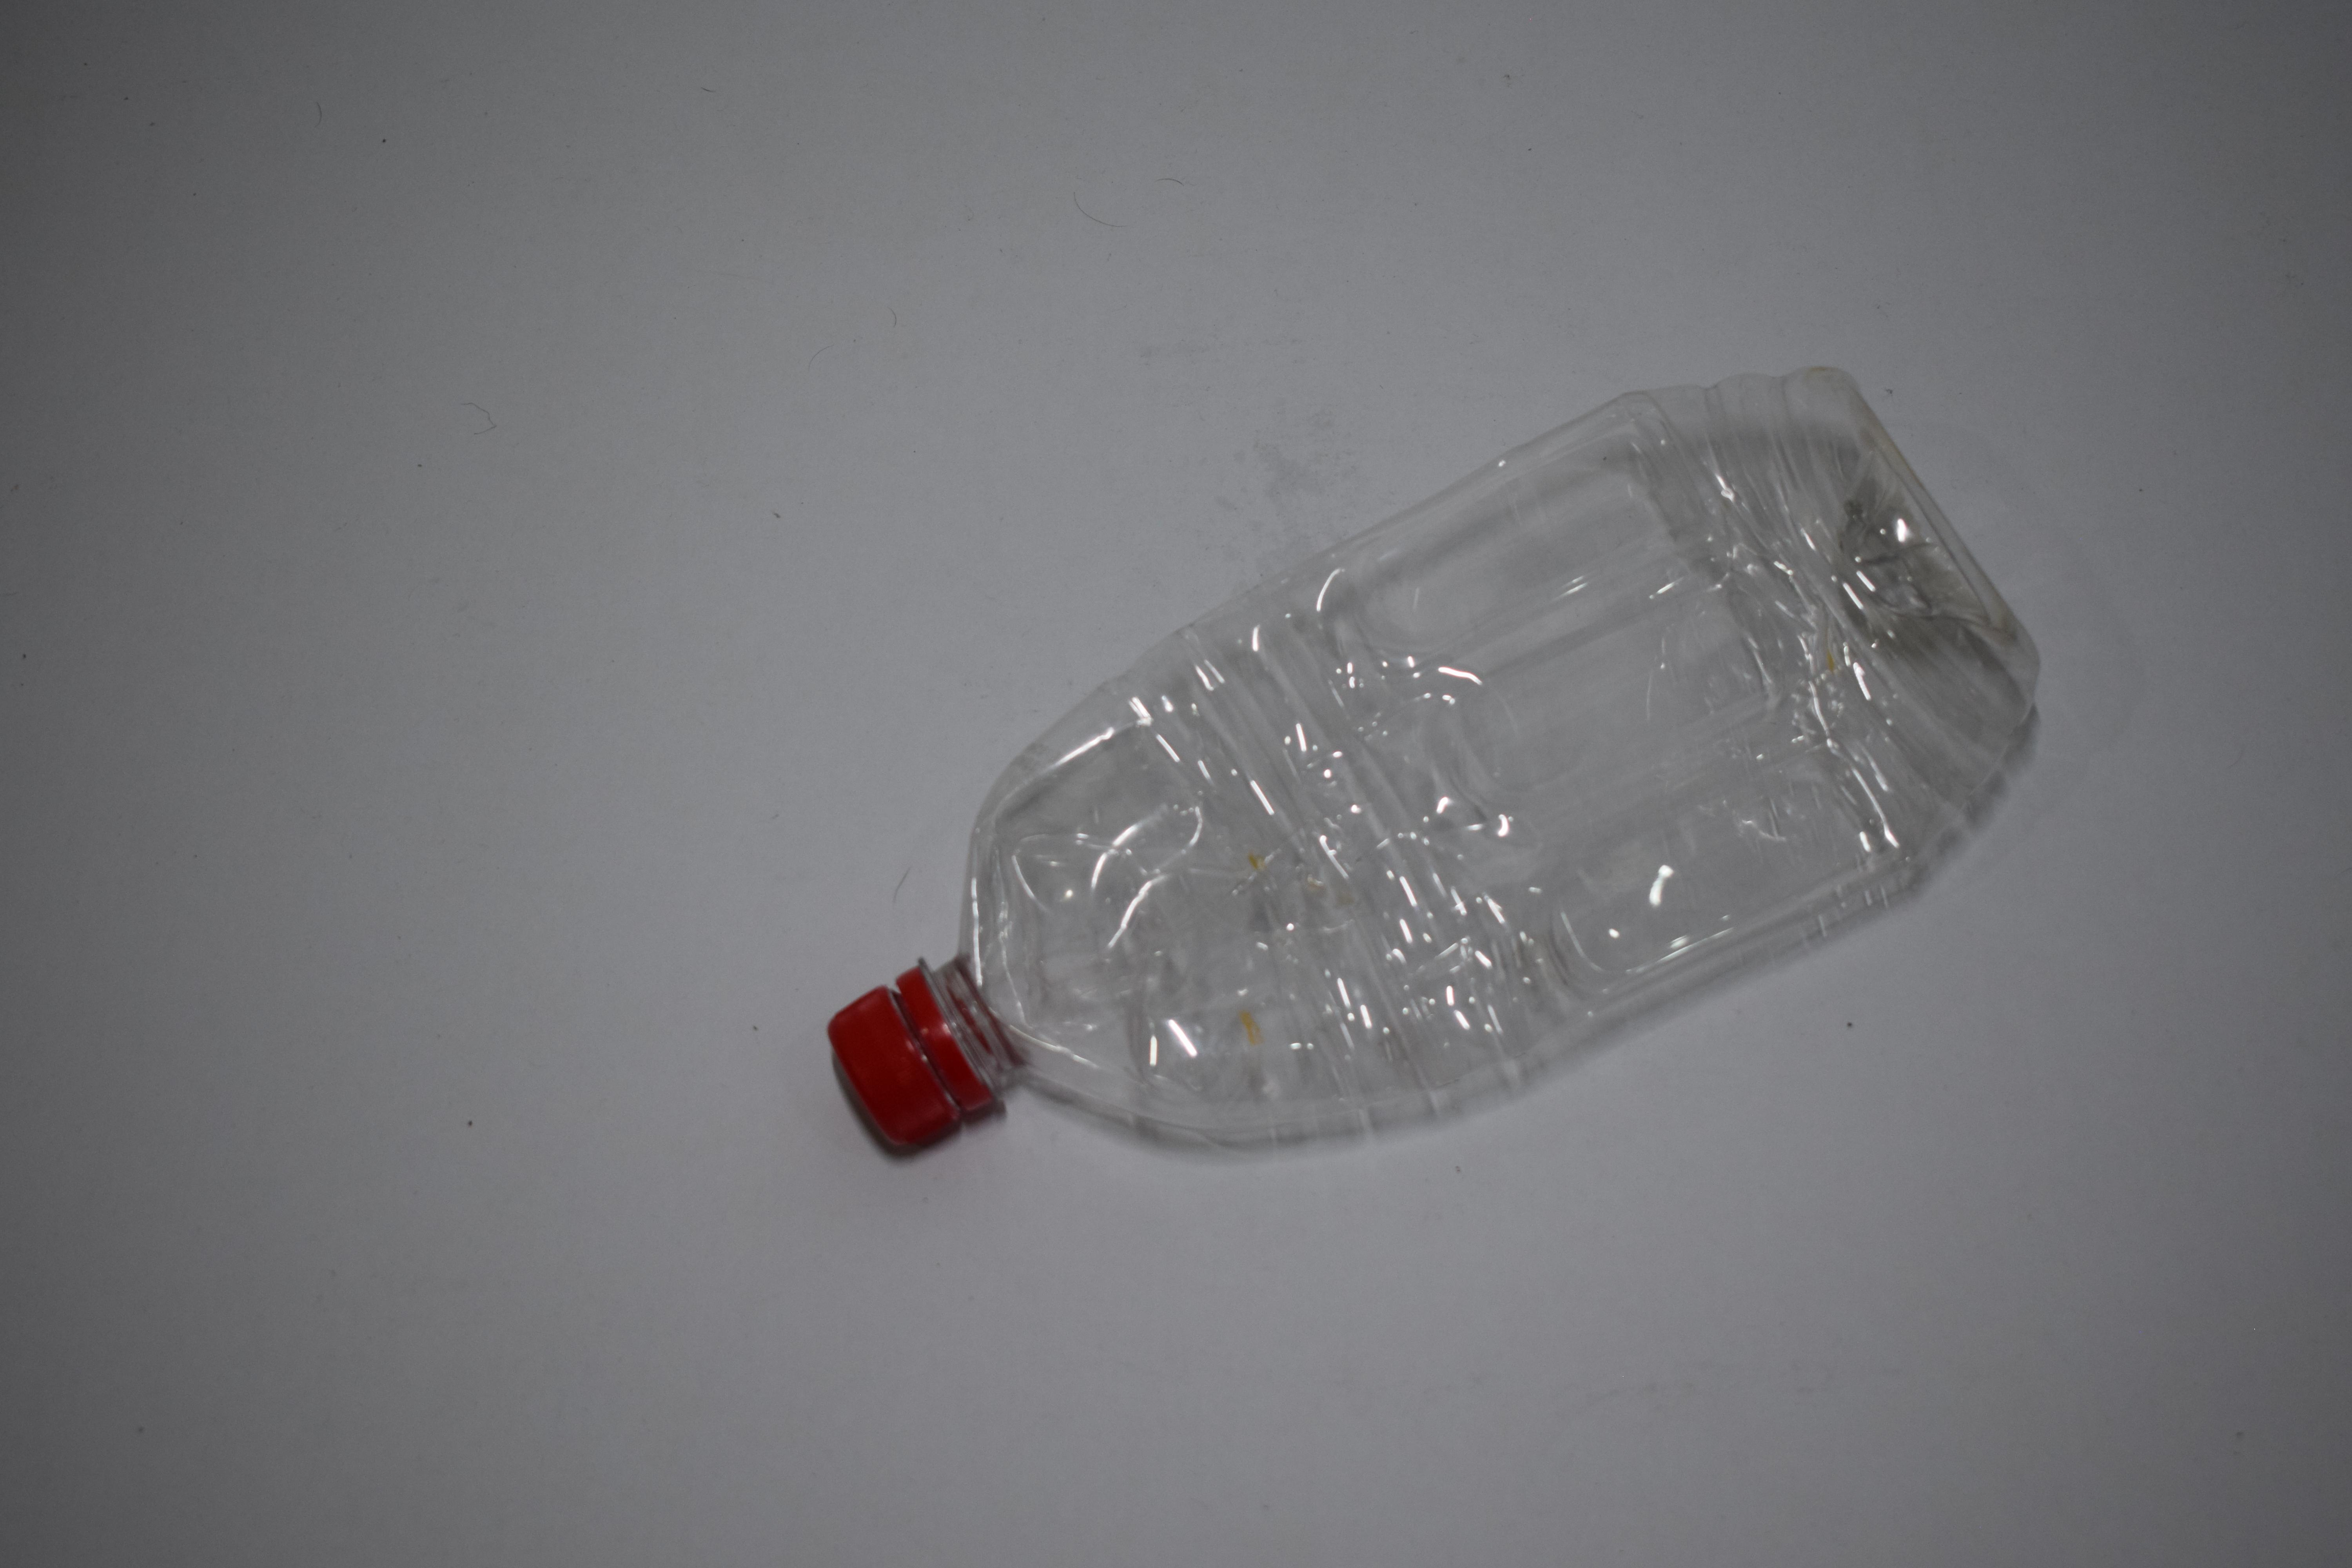bottle: (1400, 746, 1463, 772)
